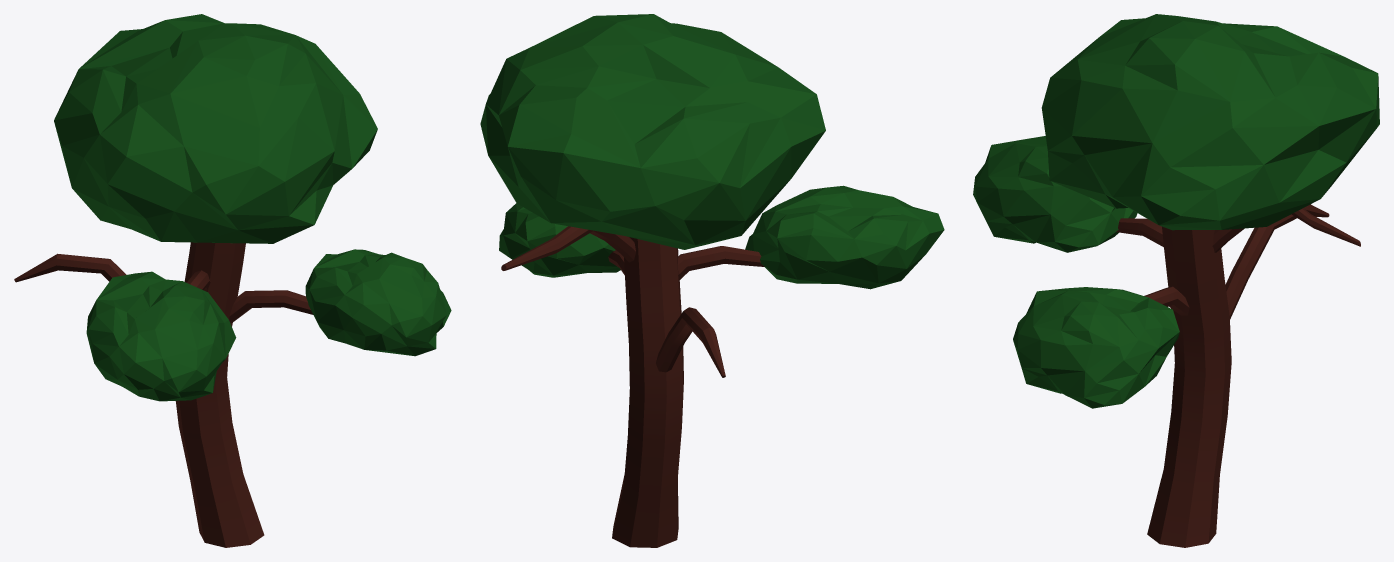
The model's file is SM_tree_01.fbx.
3 views of the same model, side by side, from view 1: azimuth 30°, elevation 25°; view 2: azimuth 150°, elevation 25°; view 3: azimuth 270°, elevation 25° (orthographic). The views are drawn at different scales.
Parts seen in each view (by area): view 1: tree_01; view 2: tree_01; view 3: tree_01.
Boxes of the visible parts, left/top/right/bottom form: tree_01: left=14, top=14, right=451, bottom=547; tree_01: left=480, top=14, right=944, bottom=547; tree_01: left=973, top=14, right=1379, bottom=547.
Size of the model in its own units: 1170 by 1473 by 1073.
